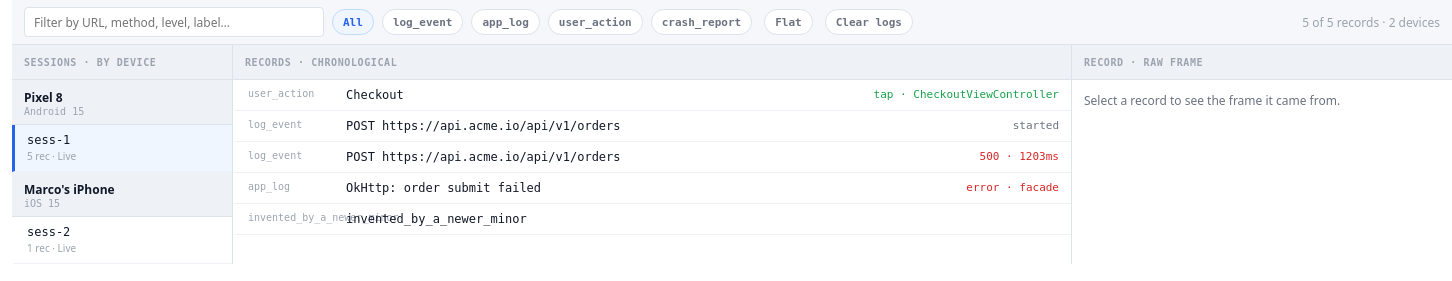
Test: streams the picked session and never shows another session’s records
Expected: the text "OkHttp: order submit failed" is shown, [346,181,541,195]
Expected: the text "Only: on the iPhone" is not shown
Click the text "sess-2". click: (49, 232)
box: [27,225,70,239]
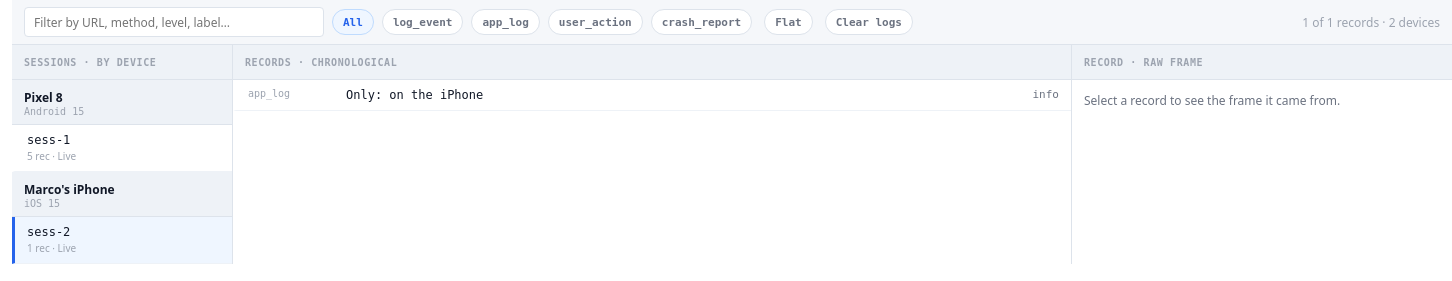
Expected: the text "Only: on the iPhone" is shown, [346,88,483,102]
Expected: the button "OkHttp: order submit failed" is gone
